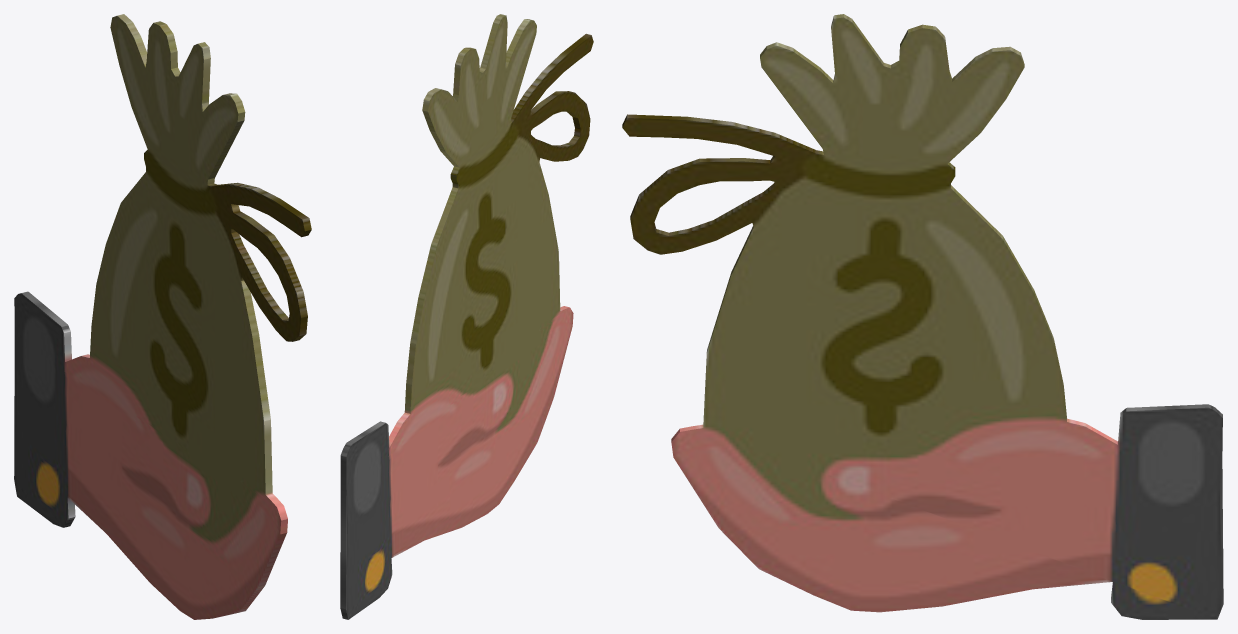
Rendered from saving icon.fbx.
The picture shows the model from 3 angles, left to right: view 1: azimuth 30°, elevation 25°; view 2: azimuth 150°, elevation 25°; view 3: azimuth 270°, elevation 25°; orthographic projection. The views are drawn at different scales.
Visible parts, largest first — view 1: Plane.006; view 2: Plane.006; view 3: Plane.006.
Part boxes in pixels (left/top/right/bottom): Plane.006: left=14, top=14, right=311, bottom=619; Plane.006: left=340, top=14, right=593, bottom=619; Plane.006: left=622, top=14, right=1223, bottom=619.
Bounding box in the file's own units: 0.8139 × 48.3 × 43.73.
1 material, 1 textured.
